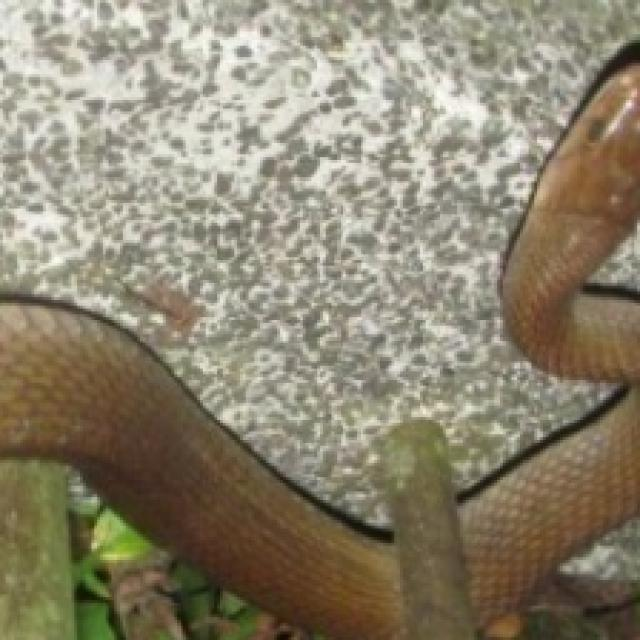reddish rat snake: (0, 299, 399, 640), (459, 55, 640, 624)
